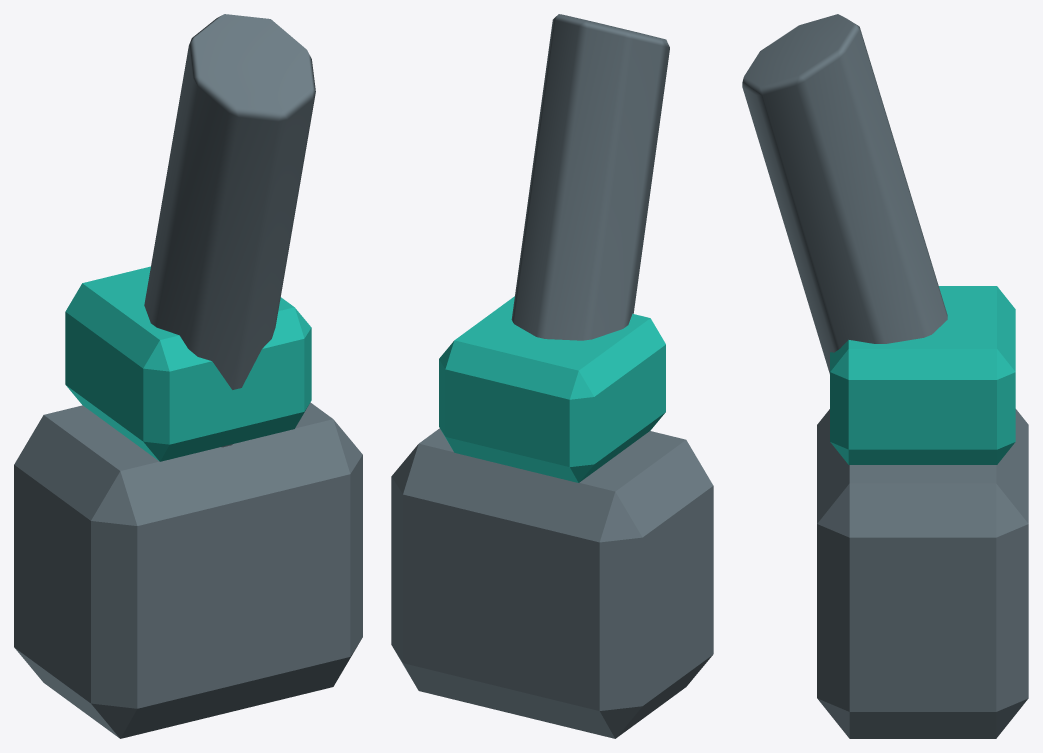
Rendered from SM_Needle_LegL.fbx.
The picture shows the model from 3 angles, left to right: view 1: azimuth 30°, elevation 25°; view 2: azimuth 150°, elevation 25°; view 3: azimuth 270°, elevation 25°; orthographic projection. The views are drawn at different scales.
Parts seen in each view (by area): view 1: SM_Needle_LegL; view 2: SM_Needle_LegL; view 3: SM_Needle_LegL.
Part boxes in pixels (x1,y1,x2,y2): SM_Needle_LegL: [14, 14, 362, 738]; SM_Needle_LegL: [391, 14, 713, 738]; SM_Needle_LegL: [742, 14, 1028, 738].
Size of the model in its own units: 8.09 by 7.74 by 19.83.
